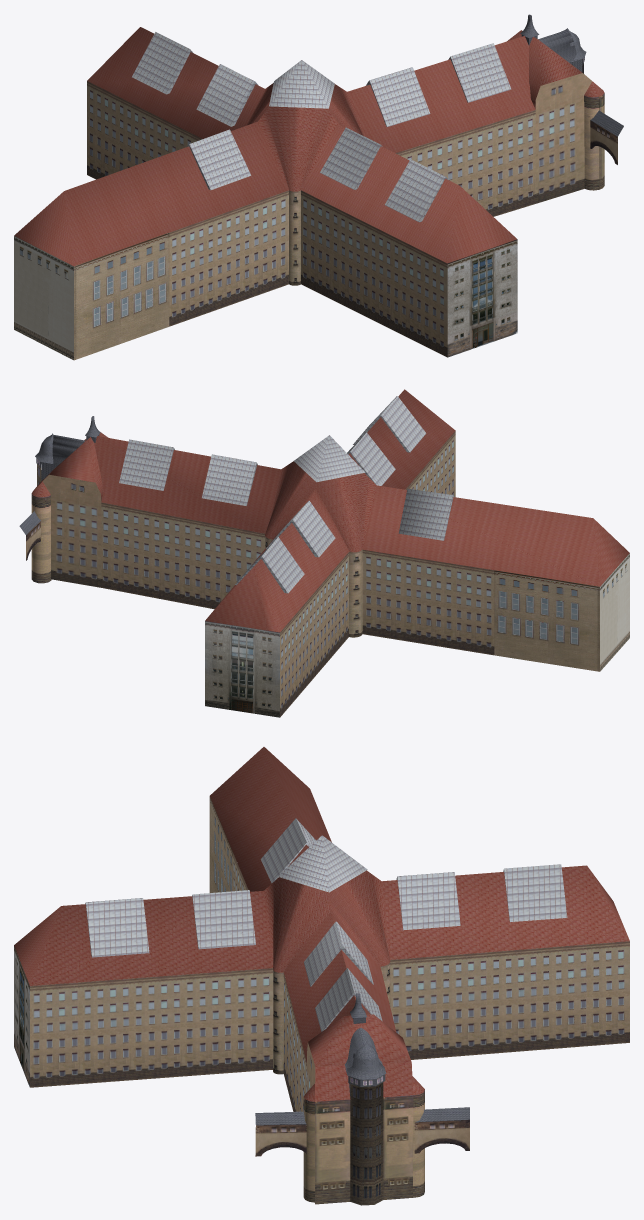
File: 1Huelsse-Bau.gltf
3 views of the same model, one above another, from view 1: azimuth 30°, elevation 25°; view 2: azimuth 150°, elevation 25°; view 3: azimuth 270°, elevation 25° (orthographic). The views are drawn at different scales.
Parts seen in each view (by area): view 1: Dach.1; view 2: Dach.1; view 3: Dach.1.
Part boxes in pixels (left/top/right/bottom): Dach.1: left=14, top=14, right=623, bottom=360; Dach.1: left=19, top=389, right=629, bottom=717; Dach.1: left=14, top=747, right=629, bottom=1205.
Bounding box in the file's own units: 113 × 35.39 × 93.27.
Materials: 15 (15 with a texture image).
